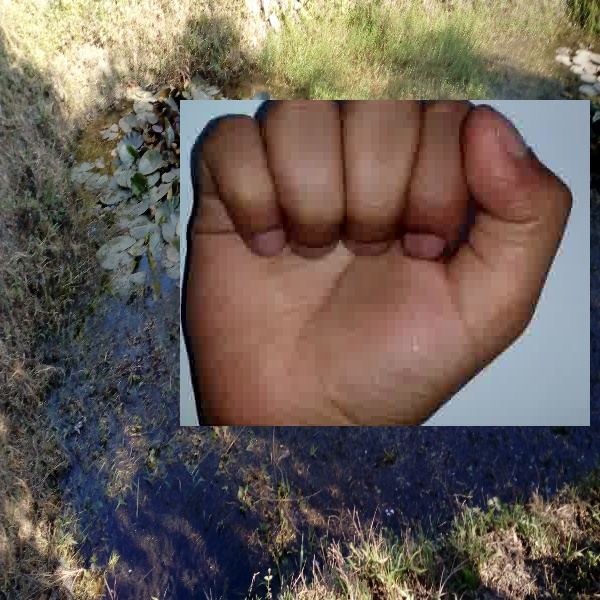A: (180, 100, 590, 426)
